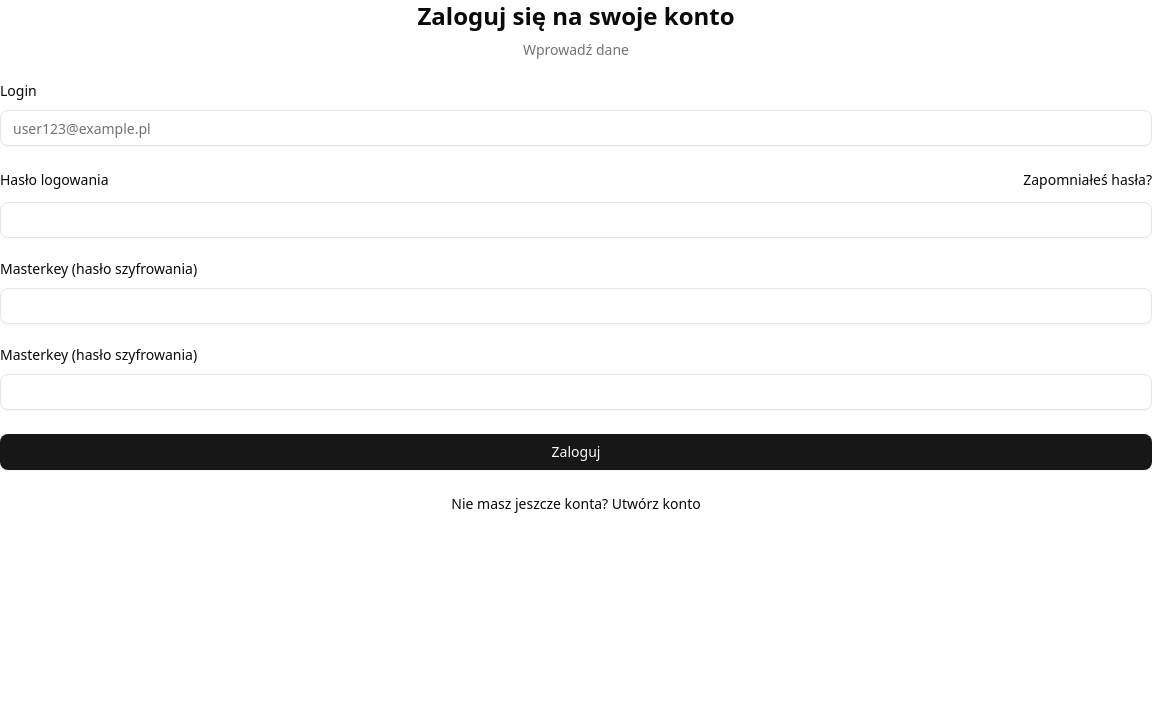
Test: LoginForm › otwiera dialog resetowania hasła po kliknięciu 'Zapomniałeś hasła?'
This screenshot has width=1152, height=720.
Click the link "Zapomniałeś hasła?" at (1088, 180), box [1023,170,1151,190]
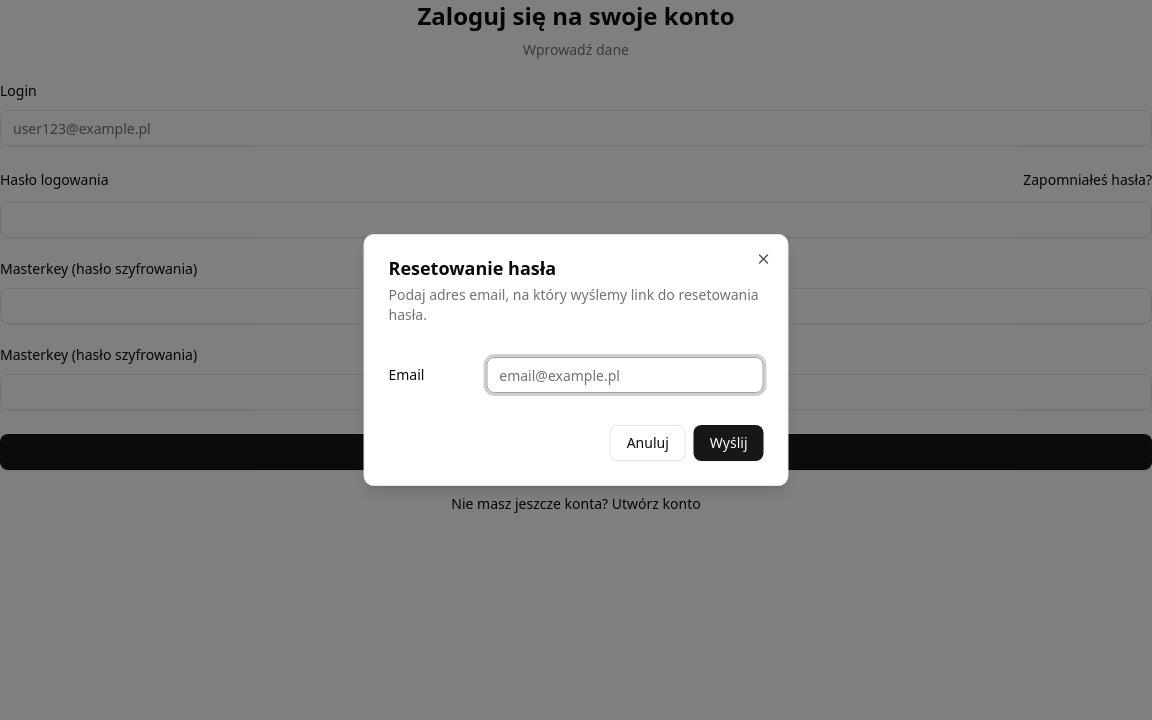
Result: the dialog is shown at [364,234,788,486]
Result: the heading "Resetowanie hasła" is shown at [388,256,556,280]
